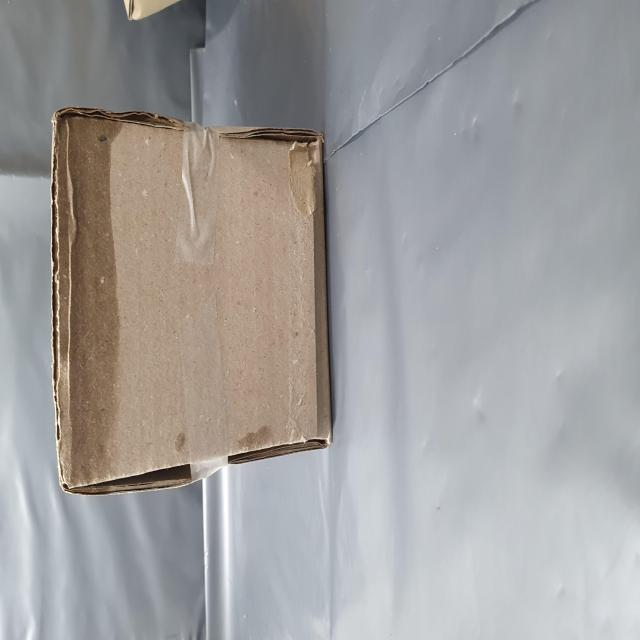wet: (83, 100, 298, 242)
